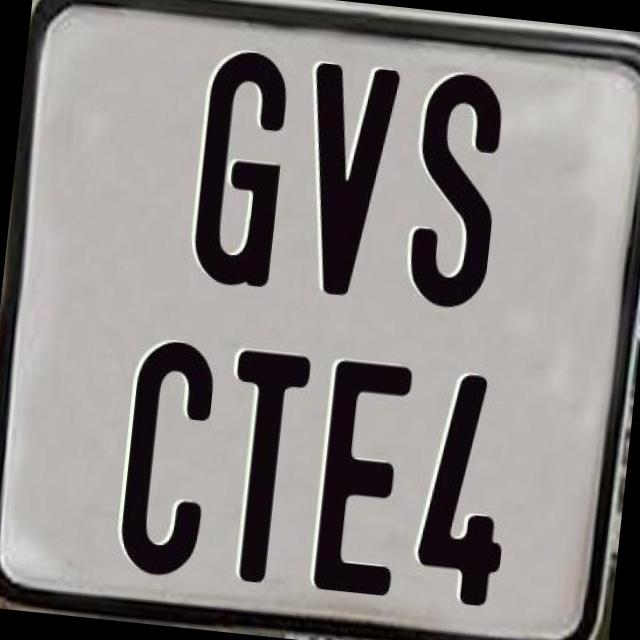4: (411, 371, 518, 613)
C: (112, 336, 220, 584)
E: (310, 359, 418, 606)
G: (185, 45, 294, 292)
S: (402, 65, 511, 312)
T: (214, 343, 316, 588)
V: (292, 60, 406, 298)
